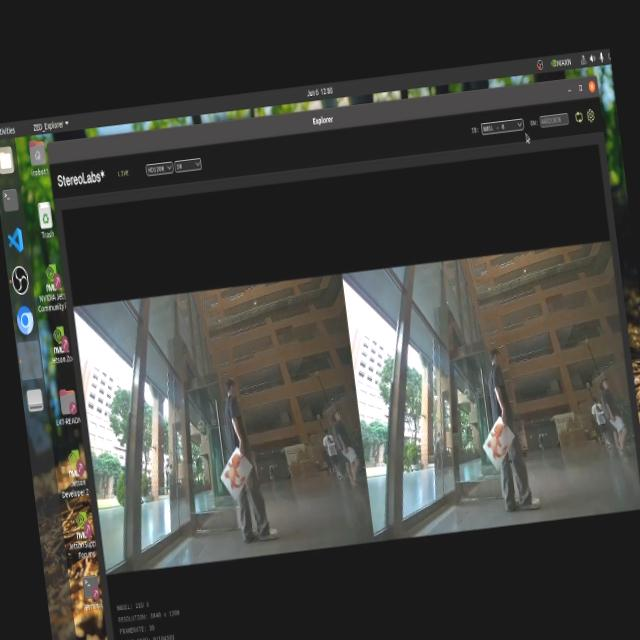red: (216, 442, 251, 494), (478, 422, 514, 469)
